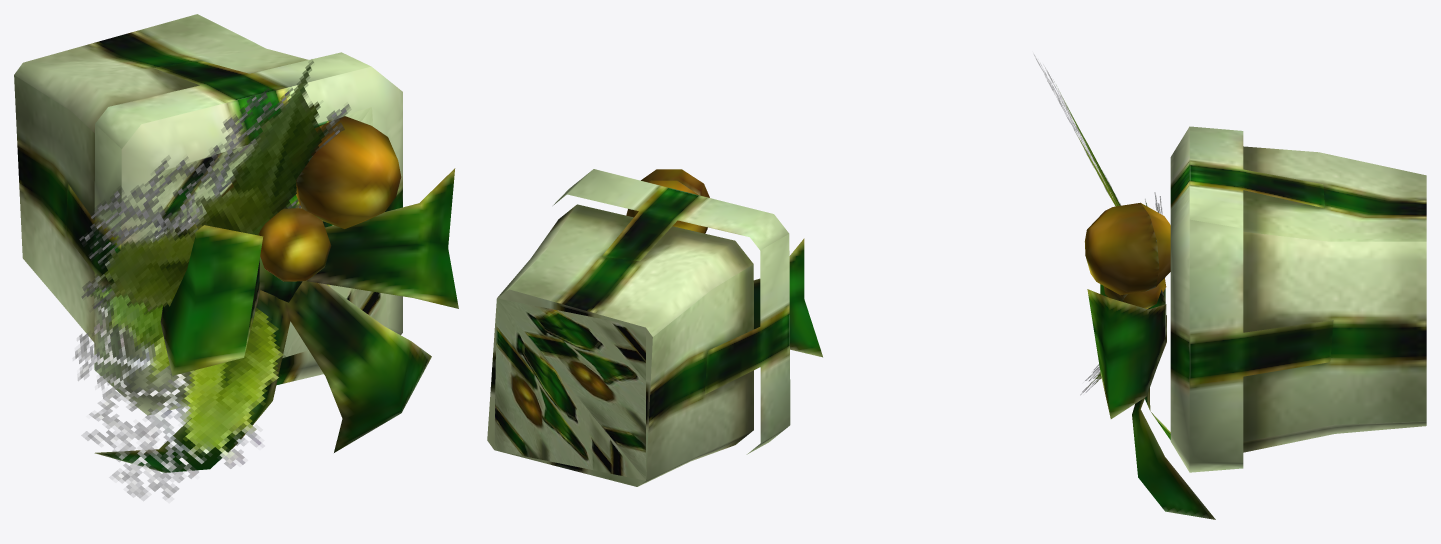
File: giftbox_g.glb
3 renders of one model, left to right at view 1: azimuth 30°, elevation 25°; view 2: azimuth 150°, elevation 25°; view 3: azimuth 270°, elevation 25°, orthographic. The views are drawn at different scales.
Visible parts, largest first — view 1: model_giftbox_g; view 2: model_giftbox_g; view 3: model_giftbox_g.
Boxes of the visible parts, x1=… form: model_giftbox_g: x1=14, y1=14, x2=458, y2=498; model_giftbox_g: x1=487, y1=169, x2=822, y2=486; model_giftbox_g: x1=1034, y1=54, x2=1426, y2=519.
Bounding box in the file's own units: 1.36 × 1.5 × 1.17.
Materials: 2 (2 with a texture image).
